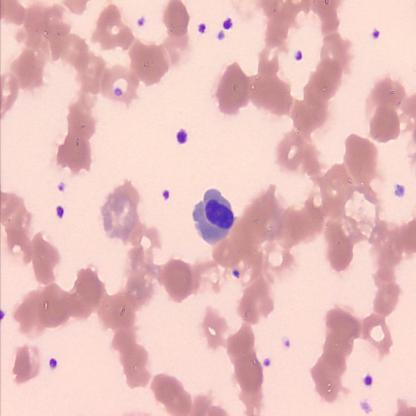NRC: (190, 186, 236, 246)
